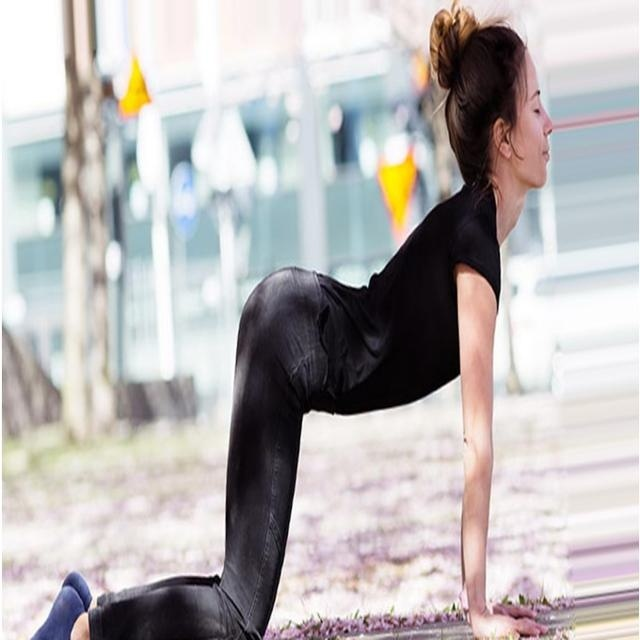Cow_Pose: (33, 25, 555, 635)
